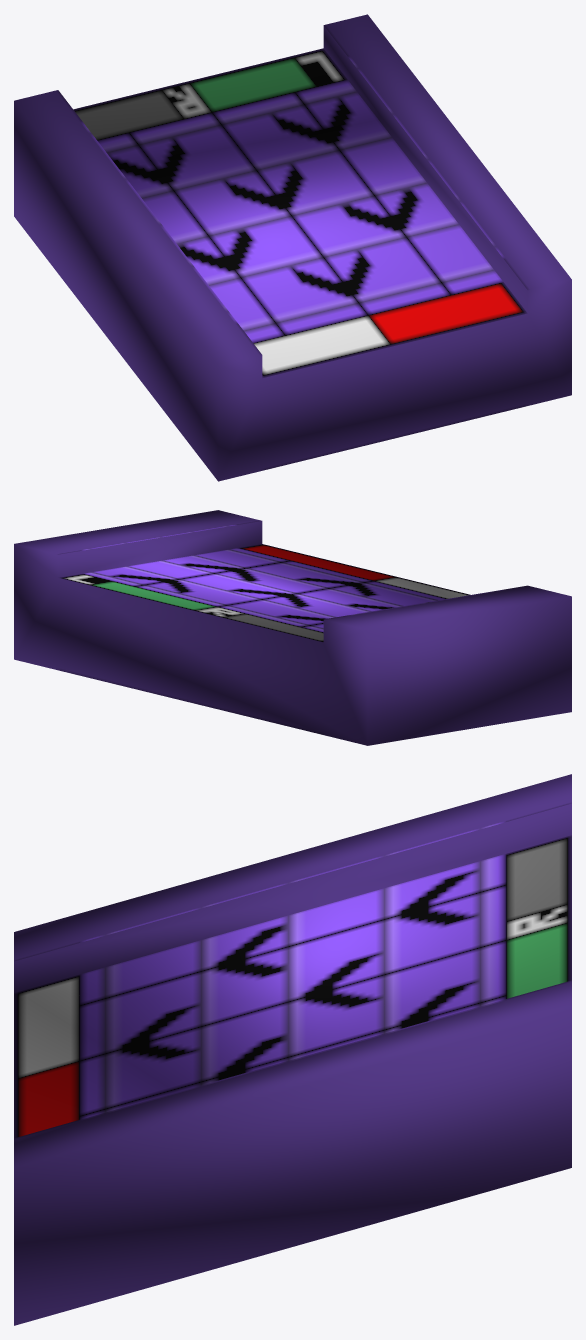
Rendered from front_down.dae.
3 renders of one model, top to bottom at view 1: azimuth 30°, elevation 25°; view 2: azimuth 150°, elevation 25°; view 3: azimuth 270°, elevation 25°, orthographic. The views are drawn at different scales.
Visible parts, largest first — view 1: FrontDown; view 2: FrontDown; view 3: FrontDown.
Boxes of the visible parts, x1=… form: FrontDown: x1=14, y1=14, x2=571, y2=481; FrontDown: x1=14, y1=510, x2=571, y2=745; FrontDown: x1=14, y1=774, x2=571, y2=1325.
Bounding box in the file's own units: 4 × 4 × 2.5.
Materials: 1 (1 with a texture image).
